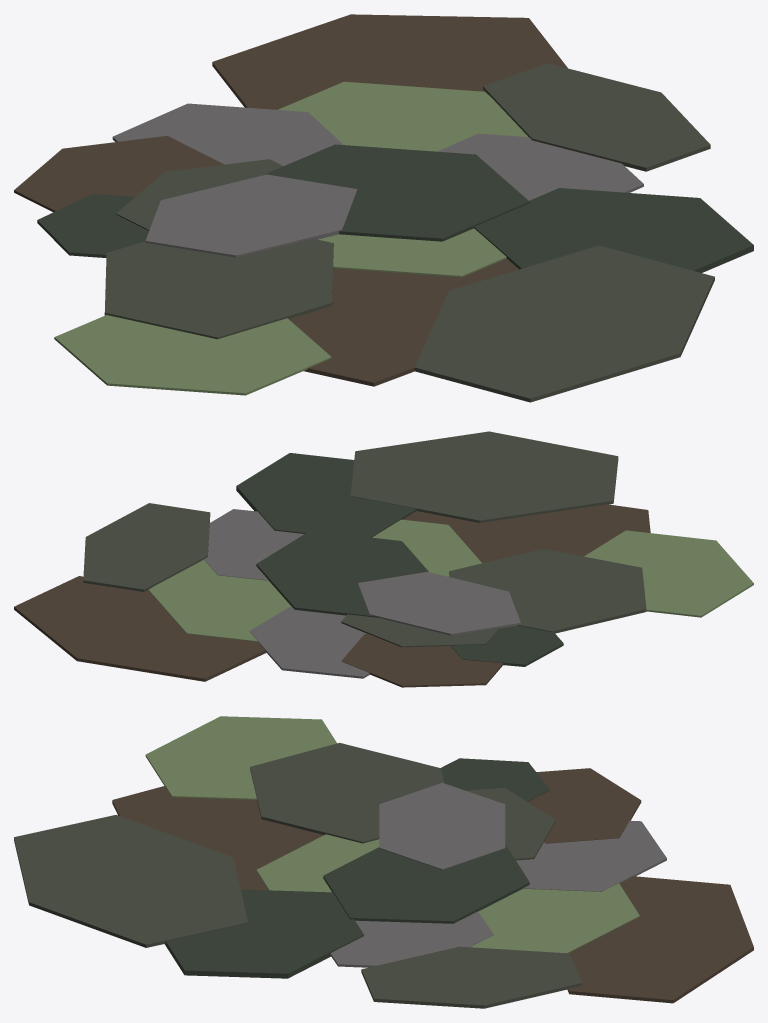
Rendered from ground.fbx.
The picture shows the model from 3 angles, top to bottom: view 1: azimuth 30°, elevation 25°; view 2: azimuth 150°, elevation 25°; view 3: azimuth 270°, elevation 25°; orthographic projection. The views are drawn at different scales.
Visible parts, largest first — view 1: ground_v2__64_, ground_v2__66_, ground_v2__3_, ground_v2__62_, ground_v2__5_, ground_v2__63_, ground_v2__65_, ground_v2__60_, ground_v2, ground_v2__17_, ground_v2__18_, ground_v2__19_ (+4 smaller); view 2: ground_v2__64_, ground_v2__66_, ground_v2__3_, ground_v2__62_, ground_v2__5_, ground_v2__65_, ground_v2__63_, ground_v2__60_, ground_v2, ground_v2__17_, ground_v2__18_, ground_v2__19_ (+4 smaller); view 3: ground_v2__64_, ground_v2__66_, ground_v2__3_, ground_v2__62_, ground_v2__5_, ground_v2__65_, ground_v2__63_, ground_v2__60_, ground_v2, ground_v2__17_, ground_v2__18_, ground_v2__19_ (+4 smaller).
Boxes of the visible parts, left/top/right/bottom form: ground_v2__64_: left=414, top=245, right=714, bottom=402; ground_v2__66_: left=212, top=14, right=567, bottom=109; ground_v2__3_: left=104, top=238, right=333, bottom=339; ground_v2__62_: left=474, top=188, right=753, bottom=272; ground_v2__5_: left=262, top=144, right=529, bottom=241; ground_v2__63_: left=54, top=315, right=331, bottom=395; ground_v2__65_: left=483, top=63, right=710, bottom=171; ground_v2__60_: left=289, top=258, right=518, bottom=386; ground_v2: left=145, top=174, right=357, bottom=257; ground_v2__17_: left=278, top=81, right=527, bottom=151; ground_v2__18_: left=112, top=103, right=343, bottom=165; ground_v2__19_: left=14, top=135, right=223, bottom=212; ground_v2__64_: left=350, top=431, right=618, bottom=522; ground_v2__66_: left=14, top=576, right=266, bottom=681; ground_v2__3_: left=449, top=549, right=646, bottom=633; ground_v2__62_: left=236, top=453, right=416, bottom=537; ground_v2__5_: left=256, top=530, right=428, bottom=617; ground_v2__65_: left=83, top=503, right=210, bottom=591; ground_v2__63_: left=584, top=530, right=753, bottom=617; ground_v2__60_: left=403, top=504, right=650, bottom=563; ground_v2: left=358, top=571, right=520, bottom=635; ground_v2__17_: left=148, top=559, right=290, bottom=641; ground_v2__18_: left=249, top=606, right=369, bottom=678; ground_v2__19_: left=341, top=634, right=503, bottom=687; ground_v2__64_: left=14, top=815, right=248, bottom=947; ground_v2__66_: left=567, top=876, right=753, bottom=1003; ground_v2__3_: left=250, top=742, right=444, bottom=843; ground_v2__62_: left=164, top=889, right=363, bottom=978; ground_v2__5_: left=323, top=844, right=529, bottom=923; ground_v2__65_: left=361, top=946, right=582, bottom=1008; ground_v2__63_: left=145, top=716, right=336, bottom=799; ground_v2__60_: left=112, top=786, right=323, bottom=890; ground_v2: left=379, top=782, right=505, bottom=869; ground_v2__17_: left=470, top=883, right=639, bottom=953; ground_v2__18_: left=516, top=820, right=666, bottom=891; ground_v2__19_: left=528, top=768, right=641, bottom=843.
Size of the model in its own units: 2700 by 33.32 by 2903.
